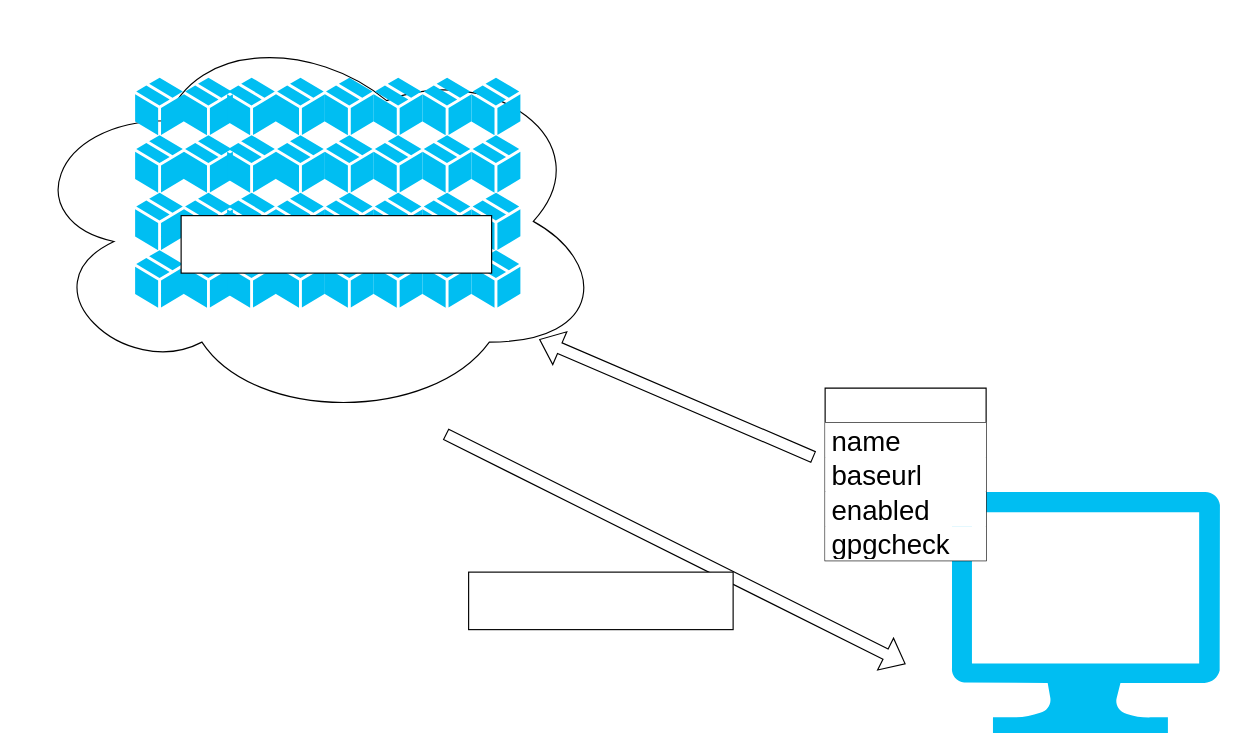
This 1240x753 diagram has some shape labels left out. Here are the shapes that lost their labels. From the top down, the box of each, then its label:
(180, 214, 492, 273): Packages (program)
(824, 387, 986, 561): Repo List
